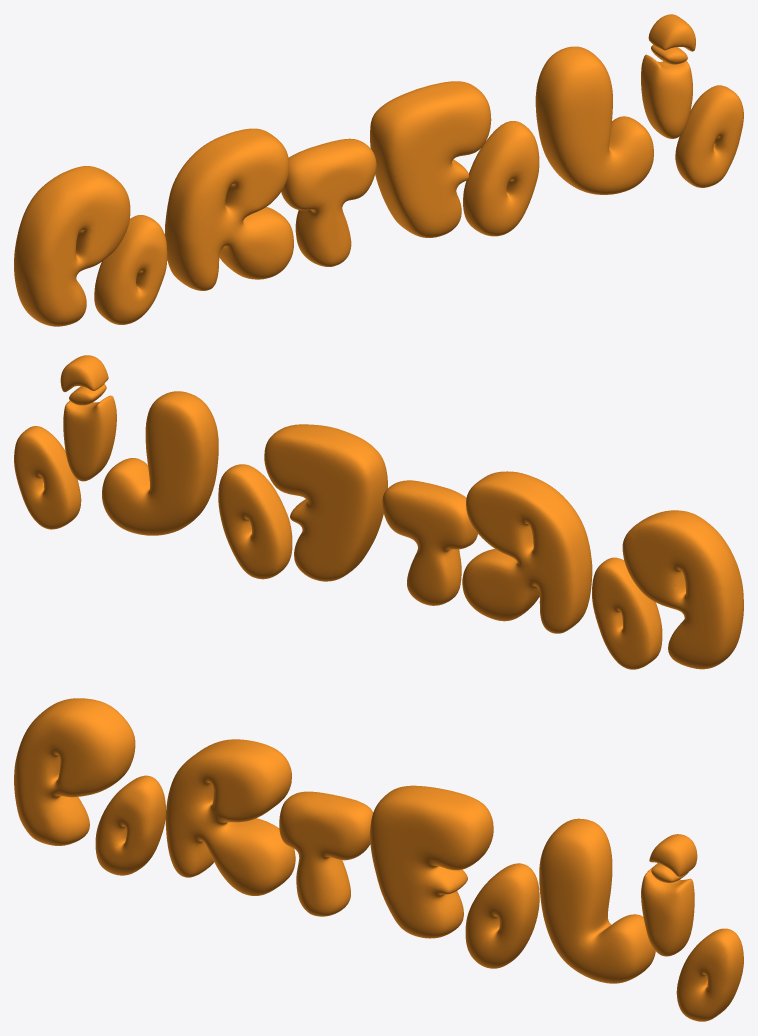
File: Portfolio.glb
3 views of the same model, one above another, from view 1: azimuth 30°, elevation 25°; view 2: azimuth 150°, elevation 25°; view 3: azimuth 330°, elevation 25° (orthographic).
Parts seen in each view (by area): view 1: Portfolio; view 2: Portfolio; view 3: Portfolio.
Boxes of the visible parts, <box> form: Portfolio: <box>14,14,743,326</box>; Portfolio: <box>14,355,743,669</box>; Portfolio: <box>14,698,743,1021</box>.
Size of the model in its own units: 15.9 by 3.66 by 1.04.
